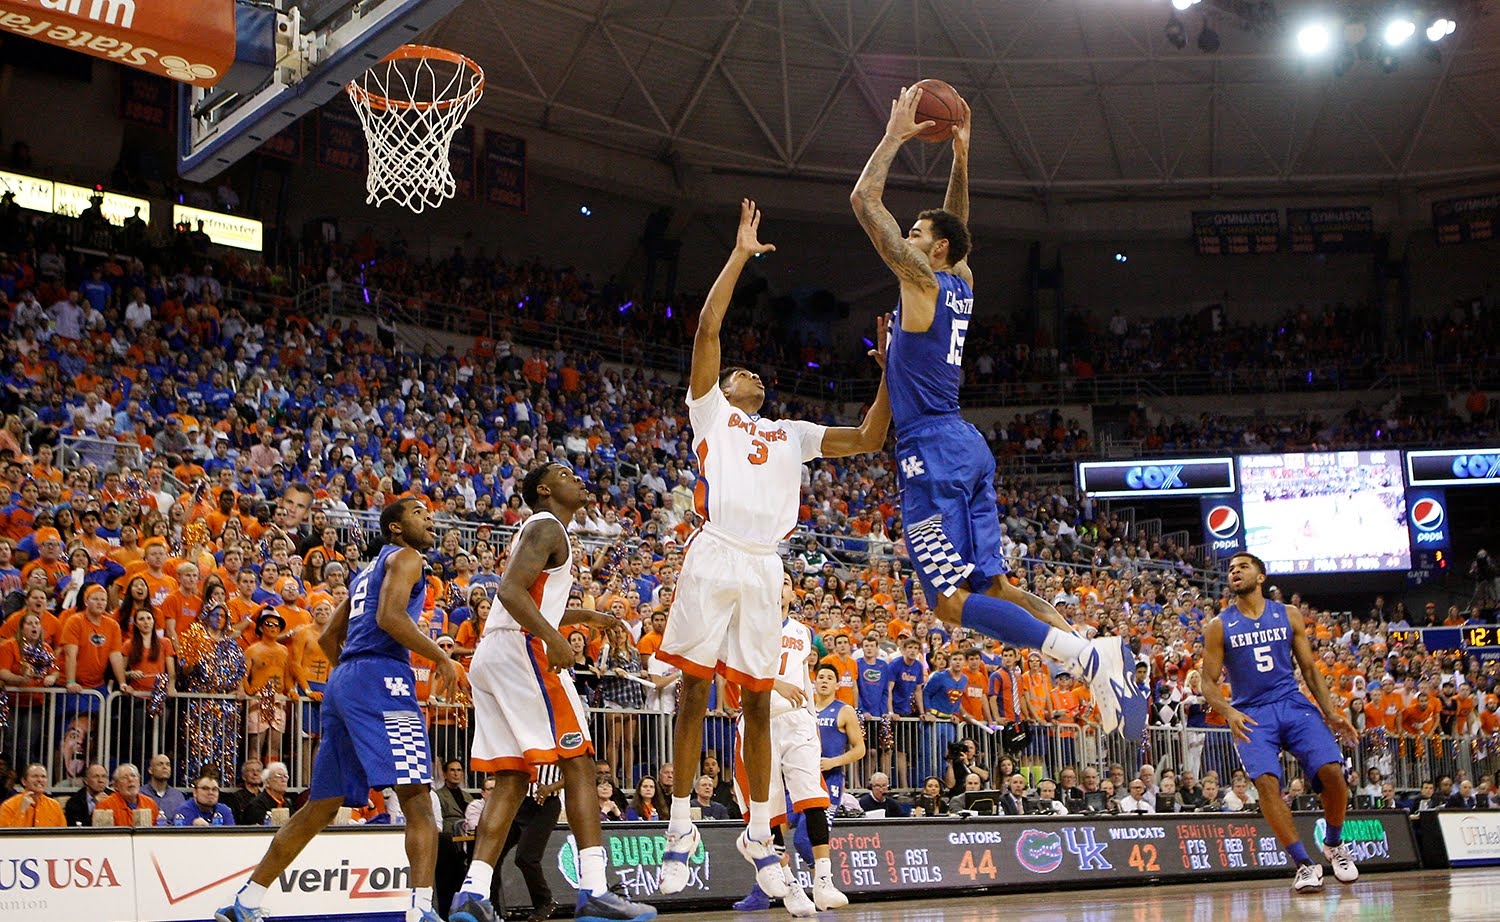ball: (896, 69, 970, 150)
basket: (320, 33, 487, 216)
defense: (642, 186, 832, 912)
shoot: (830, 51, 1160, 747)
